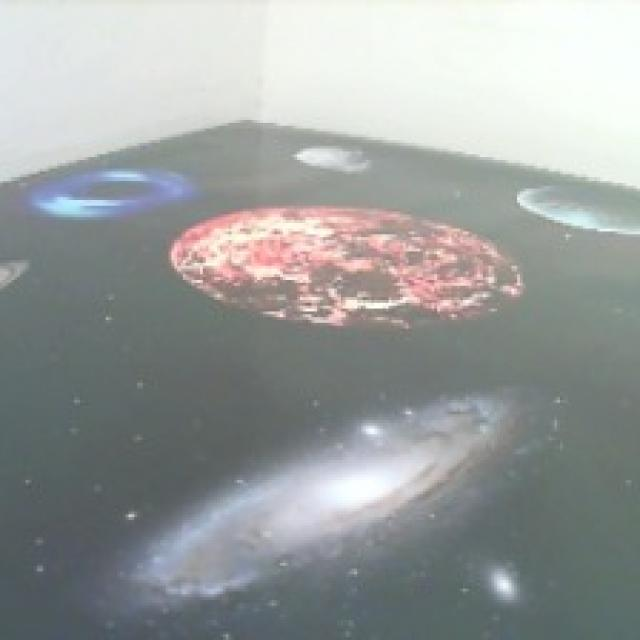Asteroid: (293, 143, 372, 175)
Black Hole: (28, 166, 190, 217)
Earth: (517, 177, 640, 234)
Galaxy: (127, 385, 526, 614)
Sun: (170, 204, 526, 331)
